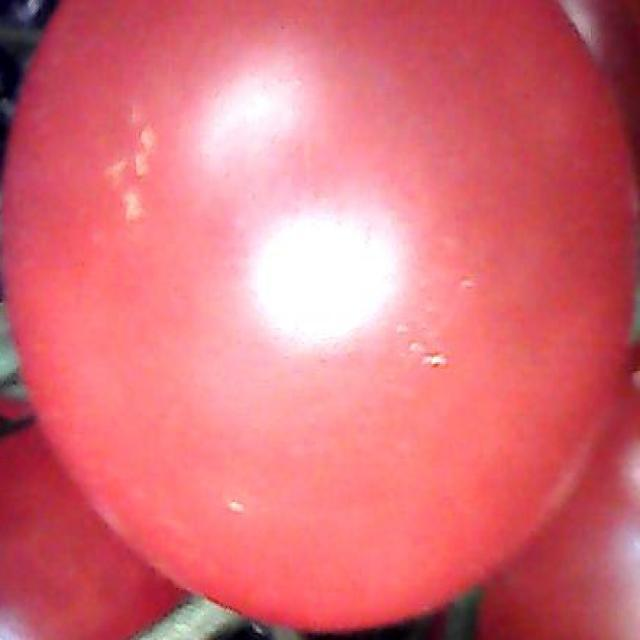Healthy: (24, 10, 640, 632)
